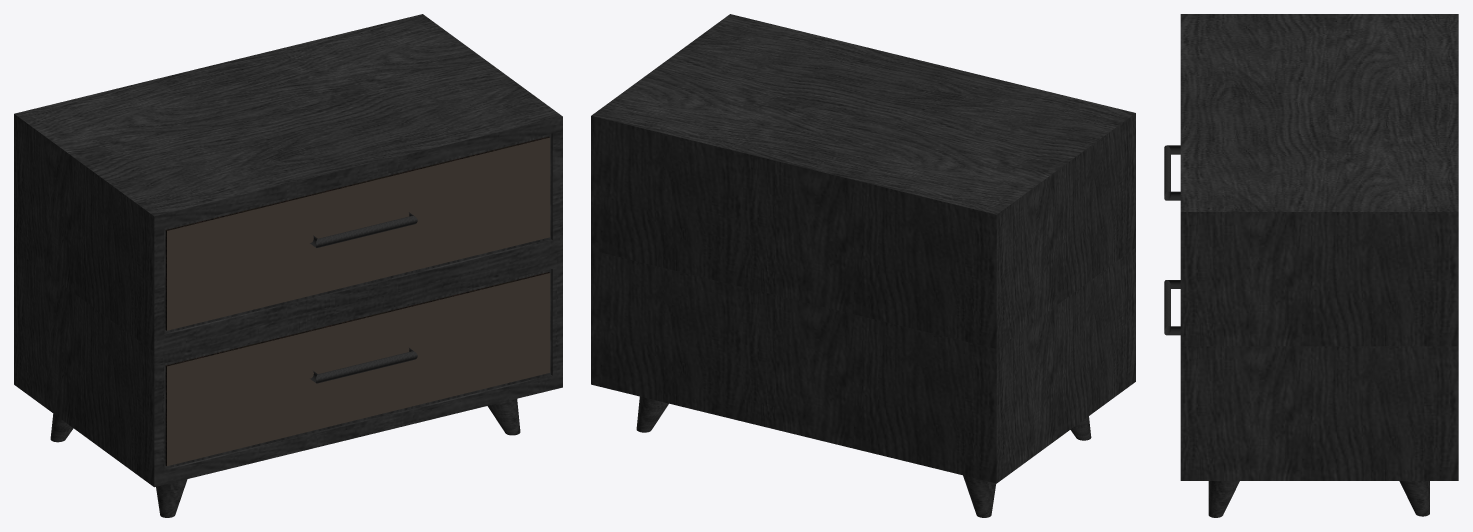
The model's file is Velador4.fbx.
3 renders of one model, left to right at view 1: azimuth 30°, elevation 25°; view 2: azimuth 150°, elevation 25°; view 3: azimuth 270°, elevation 25°, orthographic.
Parts seen in each view (by area): view 1: Group6, Group12, Group8, Group10, Group7, Group11, Group3, Group1; view 2: Group6, Group10, Group4, Group2; view 3: Group6, Group10, Group1, Group2, Group7, Group11.
Part boxes in pixels (bbox=[...]): Group6: bbox=[14, 14, 562, 351]; Group12: bbox=[165, 272, 550, 466]; Group8: bbox=[165, 136, 550, 330]; Group10: bbox=[14, 249, 562, 487]; Group7: bbox=[310, 212, 417, 247]; Group11: bbox=[310, 348, 417, 383]; Group3: bbox=[156, 479, 187, 517]; Group1: bbox=[487, 399, 520, 435]; Group6: bbox=[591, 14, 1135, 348]; Group10: bbox=[591, 247, 1135, 483]; Group4: bbox=[963, 475, 996, 517]; Group2: bbox=[636, 396, 668, 432]; Group6: bbox=[1180, 14, 1458, 346]; Group10: bbox=[1180, 346, 1458, 480]; Group1: bbox=[1208, 481, 1239, 517]; Group2: bbox=[1399, 481, 1429, 516]; Group7: bbox=[1164, 145, 1180, 200]; Group11: bbox=[1164, 280, 1180, 335].
Bounding box in the file's own units: 23.62 × 17.72 × 14.85.
